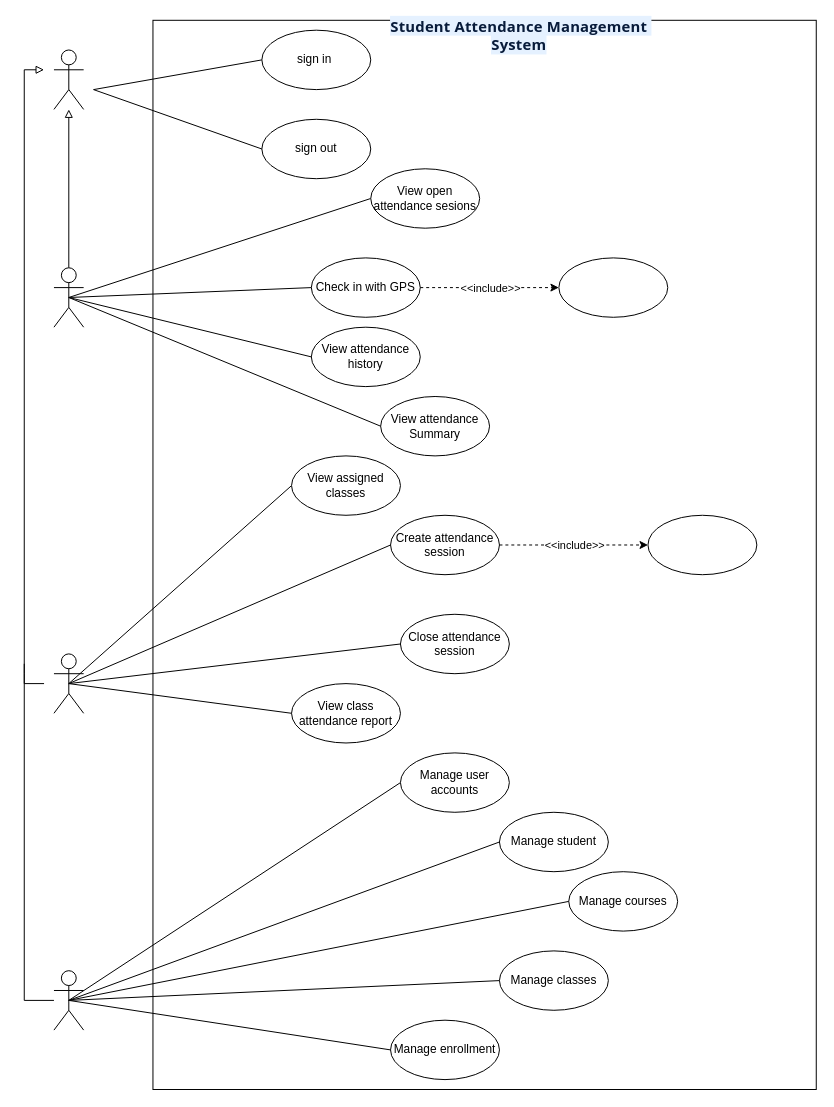
Some shapes in this 834 by 1107 pixel diagram are drawn without their labels. Each missing label, with the centre of its shape:
Administrator: point (68, 1000)
Lecturer: point (68, 683)
Set attendance location: point (702, 544)
Student: point (68, 297)
System user: point (68, 79)
validate GPS location: point (613, 287)
